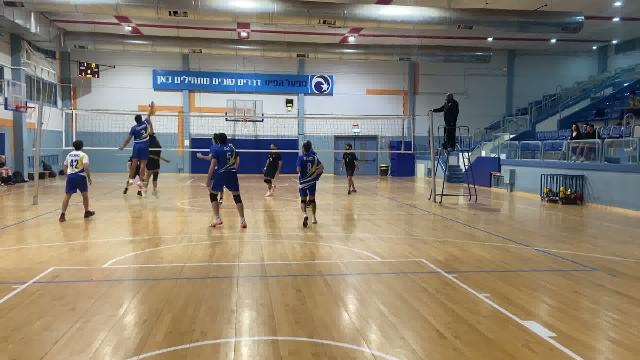ball: (146, 102, 163, 114)
